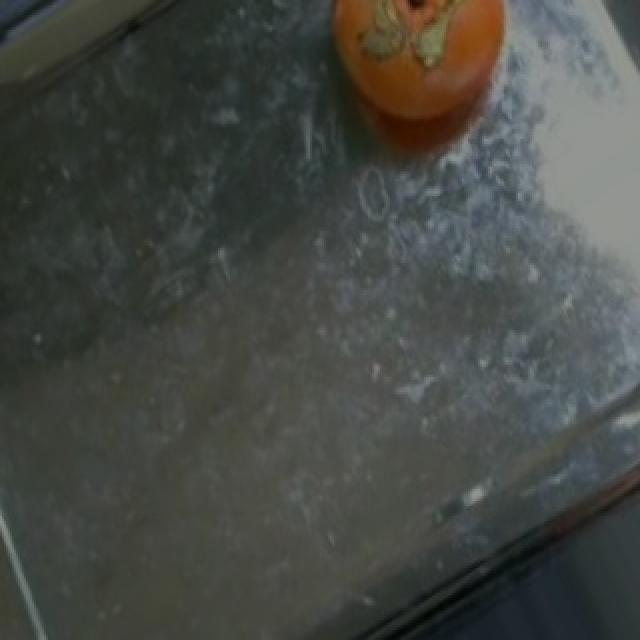Fruit: (300, 0, 538, 186)
